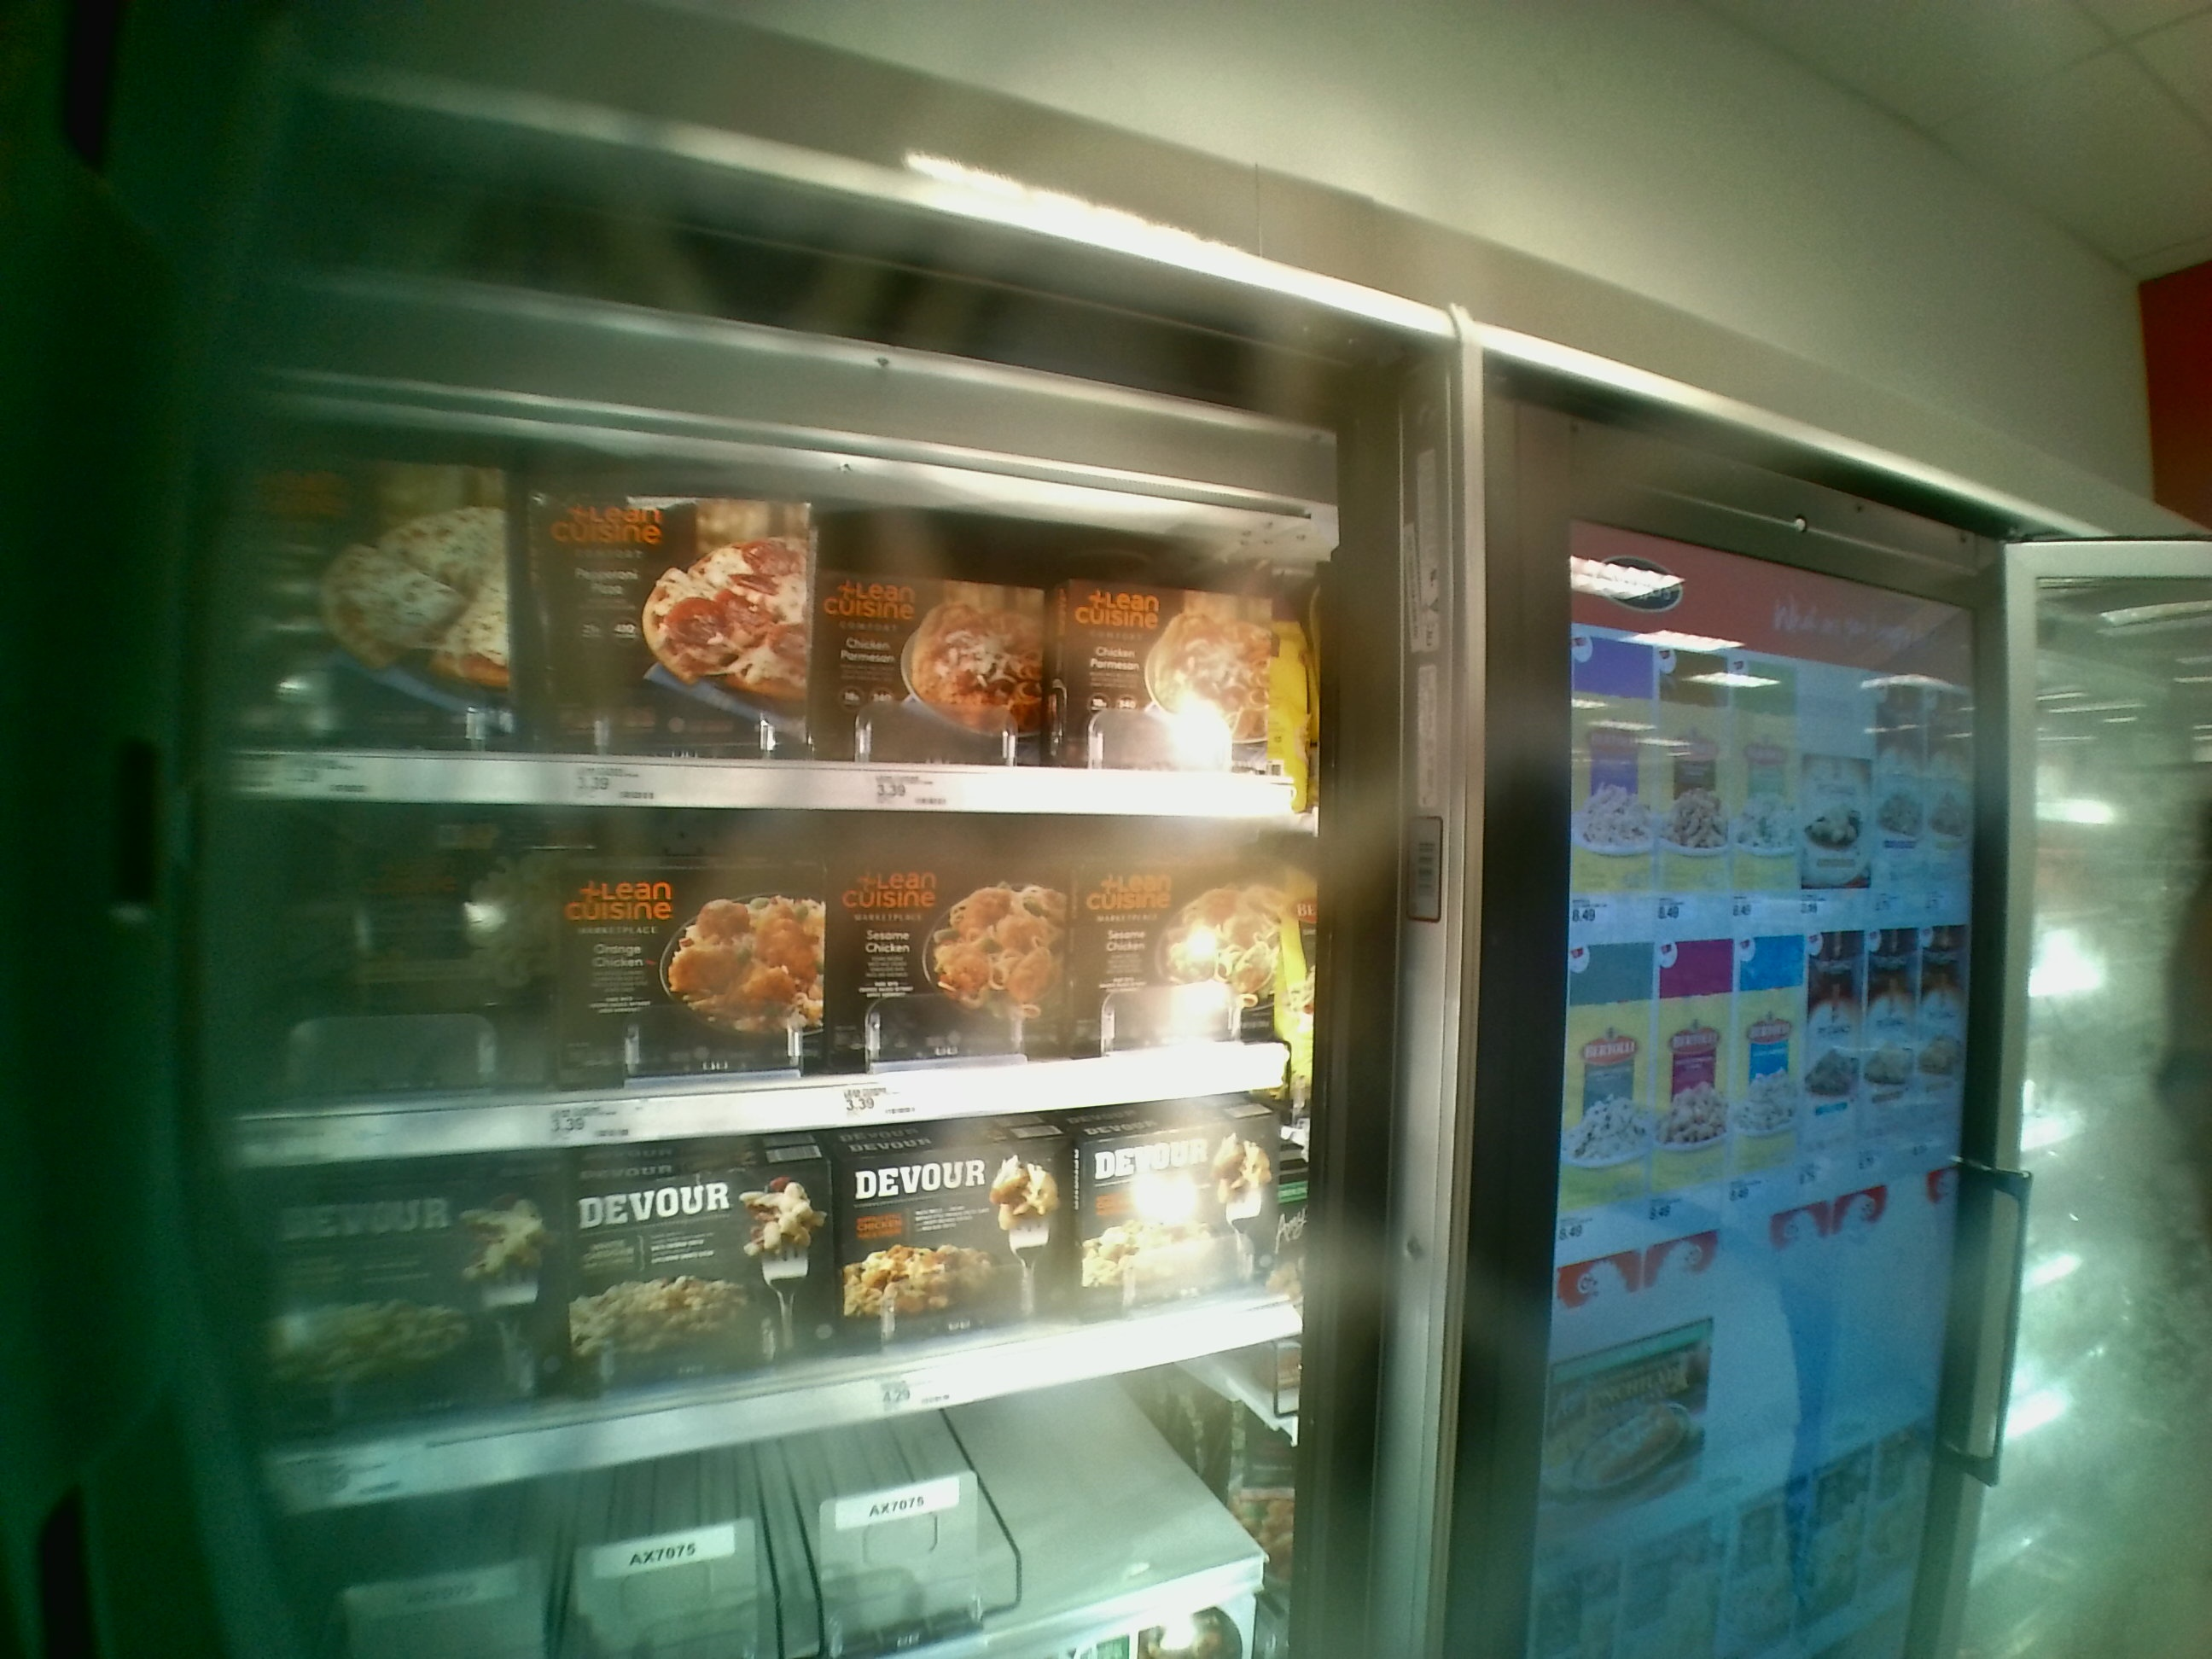shelf: (216, 403, 1292, 817), (209, 793, 1320, 1173)
